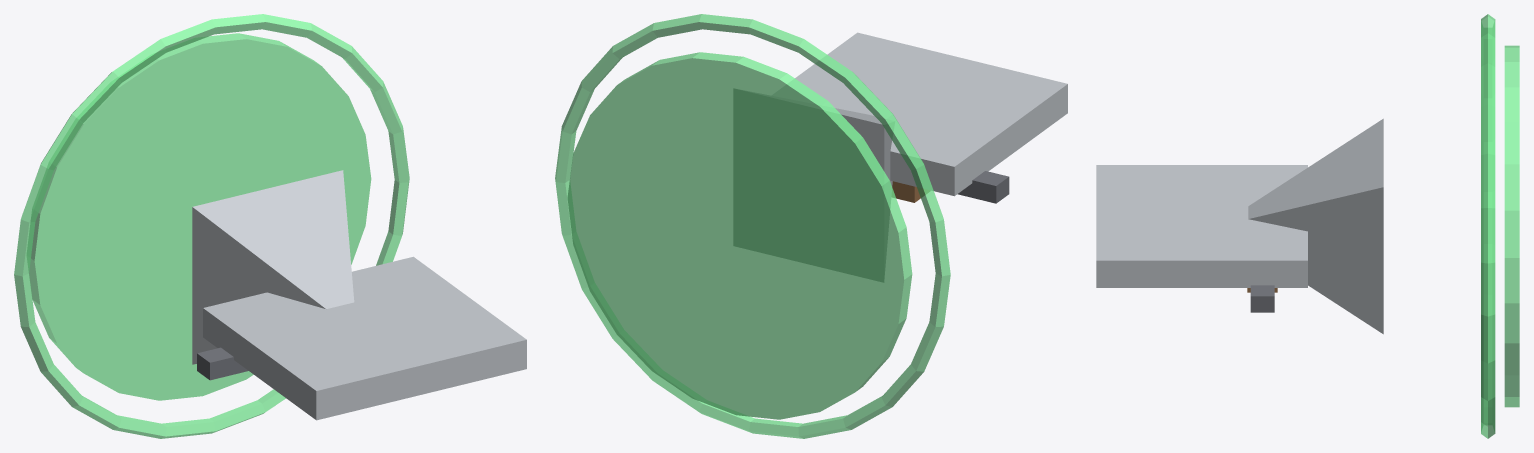
Rendered from shield_pickup_kite_uncommon.glb.
3 renders of one model, left to right at view 1: azimuth 30°, elevation 25°; view 2: azimuth 150°, elevation 25°; view 3: azimuth 270°, elevation 25°, orthographic. The views are drawn at different scales.
Parts seen in each view (by area): view 1: rarity_base_disc, shield_upper, shield_point, rarity_orbit_ring, rim; view 2: rarity_base_disc, shield_point, shield_upper, rarity_orbit_ring, rim, handle; view 3: shield_upper, shield_point, rarity_orbit_ring, rarity_base_disc, rim.
Boxes of the visible parts, box(x1,y1,x2,y2) form: rarity_base_disc: box(27, 33, 371, 400); shield_upper: box(203, 256, 526, 420); shield_point: box(192, 170, 354, 364); rarity_orbit_ring: box(14, 14, 409, 438); rim: box(197, 347, 248, 380); rarity_base_disc: box(567, 52, 912, 419); shield_point: box(734, 89, 894, 281); shield_upper: box(772, 32, 1067, 196); rarity_orbit_ring: box(555, 14, 950, 438); rim: box(957, 171, 1009, 203); handle: box(892, 181, 929, 202); shield_upper: box(1096, 165, 1307, 287); shield_point: box(1248, 118, 1383, 334); rarity_orbit_ring: box(1481, 14, 1495, 438); rarity_base_disc: box(1504, 45, 1519, 407); rim: box(1250, 285, 1274, 312).
Size of the model in its own units: 1.41 by 1.41 by 1.4.
